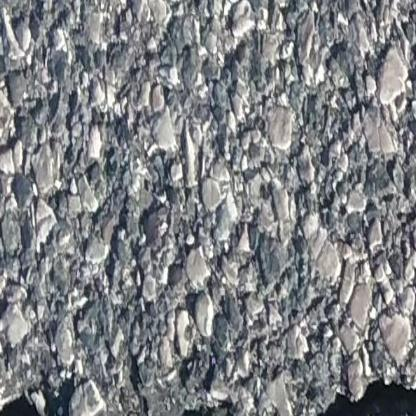Cracks: (0, 379, 252, 416), (305, 376, 416, 416)
